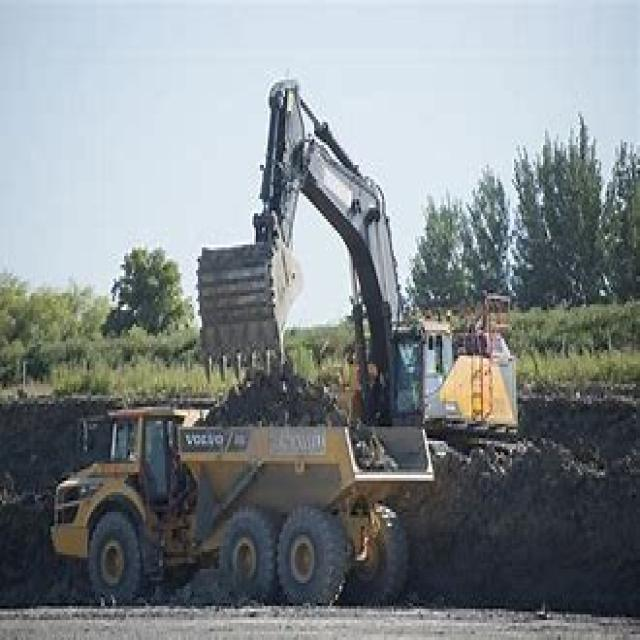dump_truck: (41, 392, 438, 608)
